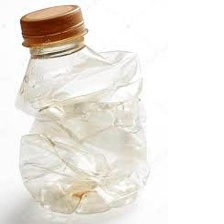bottle: (12, 2, 152, 219)
